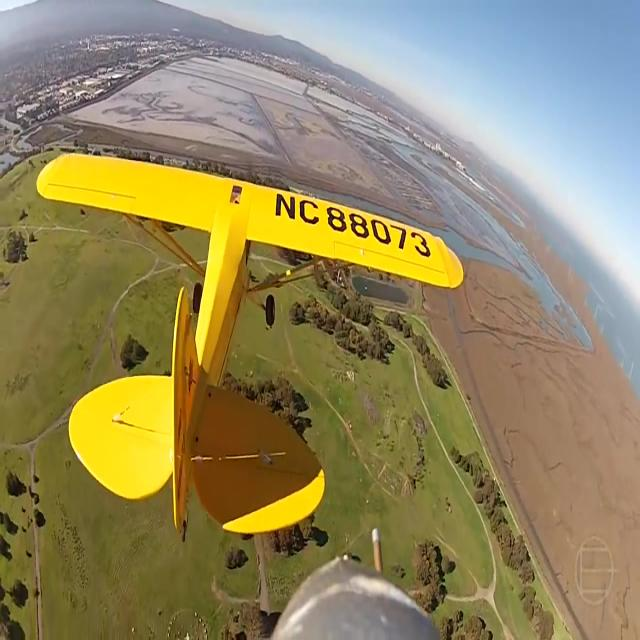iha: (34, 149, 465, 549)
